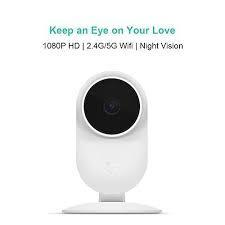maru: (77, 71, 148, 194)
